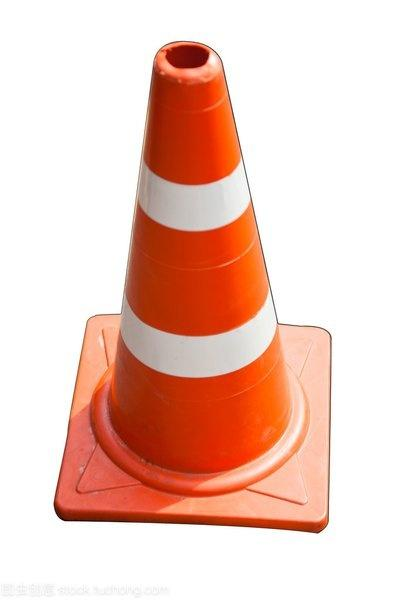cone_barrel: (95, 46, 304, 480)
